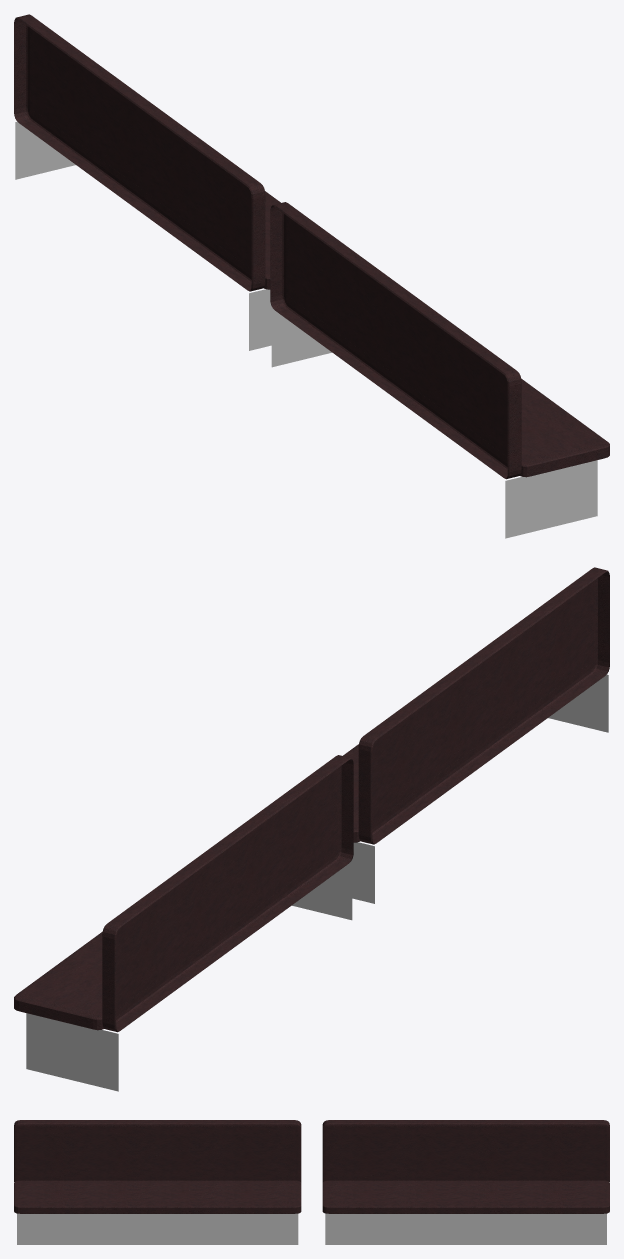
Rendered from Out_Chair.FBX.
3 views of the same model, one above another, from view 1: azimuth 30°, elevation 25°; view 2: azimuth 150°, elevation 25°; view 3: azimuth 270°, elevation 25° (orthographic). The views are drawn at different scales.
Visible parts, largest first — view 1: Chair003, Chair005, sofa004, sofa005; view 2: Chair005, Chair003, sofa005, sofa004; view 3: Chair003, Chair005, sofa005, sofa004.
Part boxes in pixels (bbox=[...]): Chair003: bbox=[270, 202, 609, 479]; Chair005: bbox=[14, 14, 280, 291]; sofa004: bbox=[271, 309, 597, 538]; sofa005: bbox=[15, 121, 273, 350]; Chair005: bbox=[14, 755, 353, 1032]; Chair003: bbox=[343, 567, 609, 844]; sofa005: bbox=[26, 862, 352, 1091]; sofa004: bbox=[350, 674, 608, 903]; Chair003: bbox=[14, 1120, 301, 1213]; Chair005: bbox=[322, 1120, 609, 1213]; sofa005: bbox=[325, 1213, 606, 1244]; sofa004: bbox=[17, 1213, 298, 1244].
Bounding box in the file's own units: 78.55 × 116 × 637.
